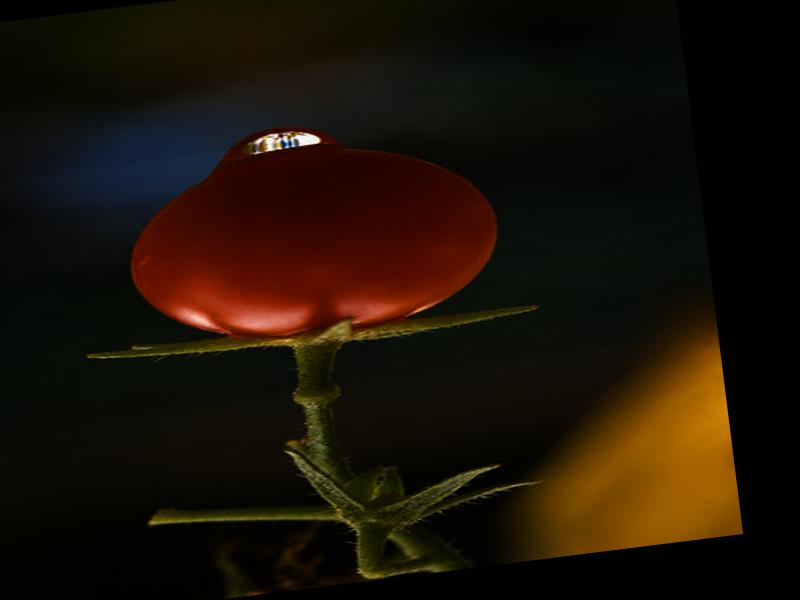Tomato: (115, 130, 505, 357)
